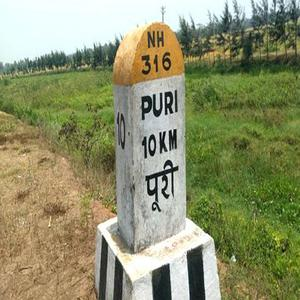kmstone: (111, 16, 187, 250)
